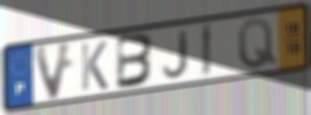B: (114, 32, 157, 92)
I: (199, 21, 213, 80)
J: (161, 27, 191, 80)
K: (79, 39, 110, 93)
Q: (235, 16, 279, 71)
V: (31, 39, 76, 104)
